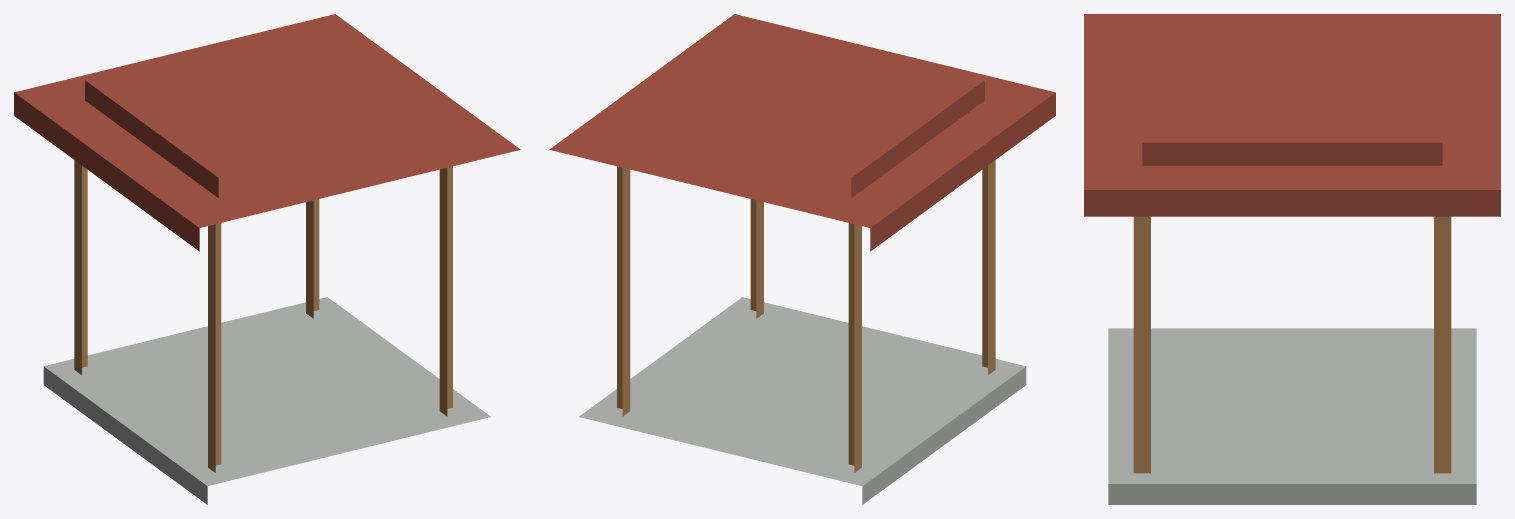
The model's file is pavilion.glb.
3 renders of one model, left to right at view 1: azimuth 30°, elevation 25°; view 2: azimuth 150°, elevation 25°; view 3: azimuth 270°, elevation 25°, orthographic. The views are drawn at different scales.
Size of the model in its own units: 4.3 by 3.96 by 4.3.
